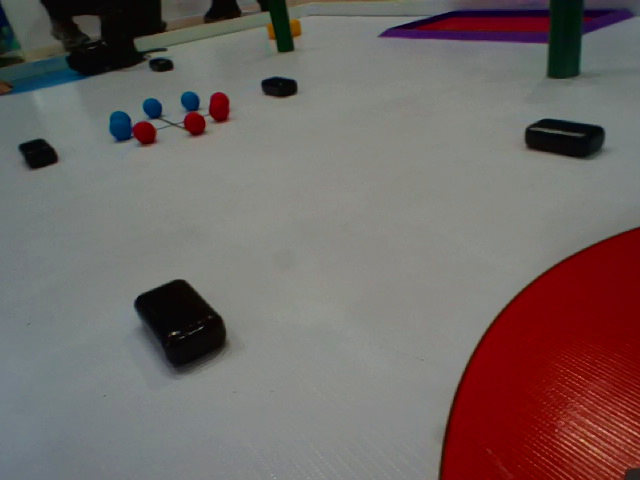black: (130, 282, 230, 368), (524, 117, 607, 157), (16, 138, 60, 172), (258, 77, 301, 97), (145, 55, 176, 72)
blue: (175, 89, 201, 110), (111, 121, 130, 141), (143, 96, 162, 115), (111, 112, 131, 130)
kuang: (377, 7, 635, 39)
red: (183, 111, 207, 134), (134, 120, 157, 139), (209, 90, 230, 110), (209, 100, 229, 120)
yellow: (265, 17, 302, 37)
zhuzi: (544, 1, 587, 78), (269, 1, 296, 53)
